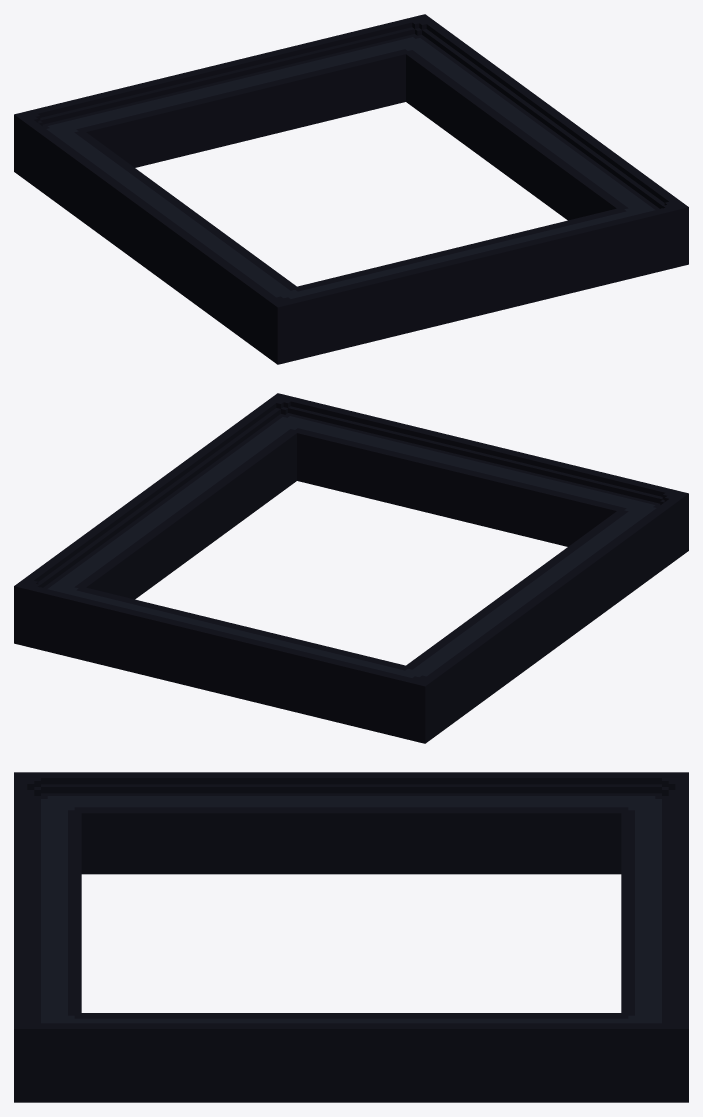
The model's file is BackgroundOutline.obj.
3 views of the same model, one above another, from view 1: azimuth 30°, elevation 25°; view 2: azimuth 150°, elevation 25°; view 3: azimuth 270°, elevation 25° (orthographic). The views are drawn at different scales.
Bounding box in the file's own units: 9 × 1.2 × 10.
Materials: 1 (1 with a texture image).
